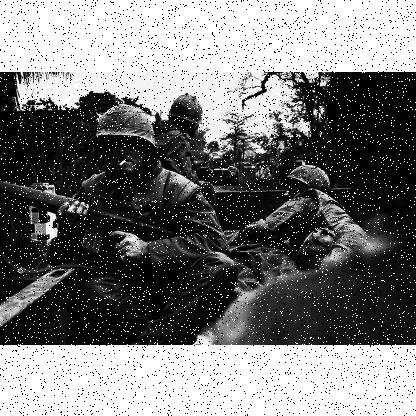gun: (11, 181, 169, 271)
